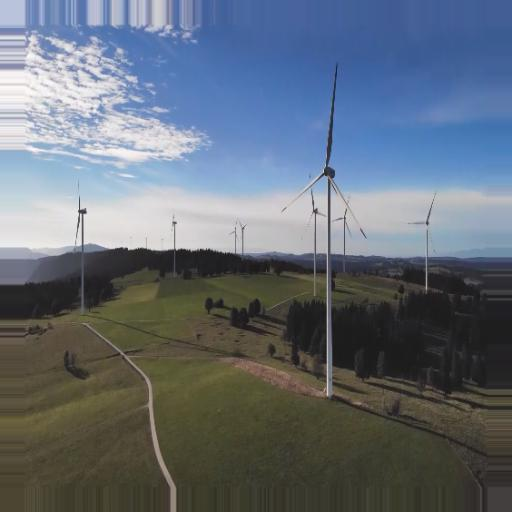wind turbine: (281, 61, 369, 405), (407, 190, 439, 295), (68, 180, 90, 317)
